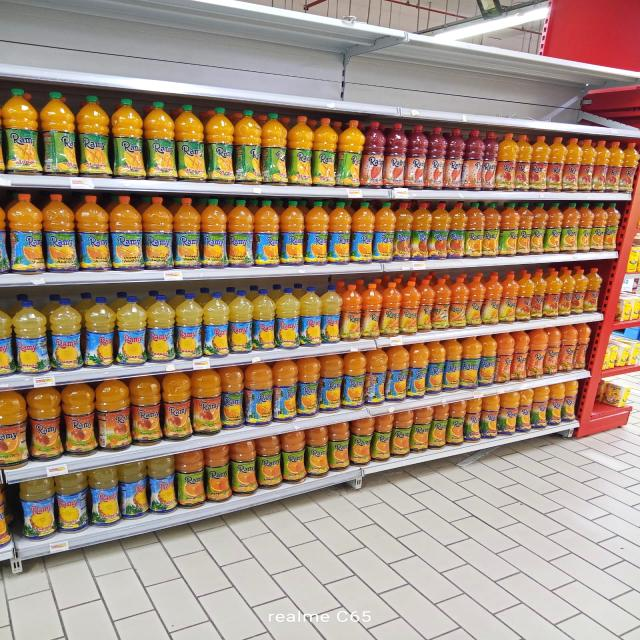PET Ramy Ananas 1 L: (7, 299, 48, 373), (81, 294, 115, 368), (199, 297, 231, 358), (52, 301, 79, 370), (272, 288, 302, 350), (294, 286, 322, 348), (228, 294, 258, 348), (316, 283, 342, 339), (151, 294, 175, 354), (175, 298, 201, 352), (126, 296, 146, 366), (254, 290, 272, 355)
PET Ramy Grenadin 1 L: (525, 157, 549, 191), (512, 158, 534, 192), (618, 165, 640, 198), (540, 284, 561, 315), (500, 153, 517, 189), (530, 292, 552, 316), (580, 160, 596, 192), (562, 159, 579, 187), (522, 291, 537, 321), (548, 159, 563, 189), (594, 162, 608, 189), (569, 288, 583, 314), (586, 288, 601, 312), (558, 290, 572, 315), (607, 164, 619, 193)
PET Ramy Grenadin 2 L: (161, 368, 191, 440), (127, 378, 160, 443), (96, 388, 130, 450), (192, 368, 221, 432), (31, 395, 60, 457), (64, 392, 94, 451), (3, 399, 28, 461)
PET Ramy Orange 1 L: (585, 208, 609, 250), (580, 202, 599, 254), (482, 206, 501, 256), (500, 208, 520, 252), (551, 205, 566, 256), (468, 206, 483, 255), (562, 204, 577, 252), (517, 204, 532, 248), (604, 206, 618, 249), (538, 203, 550, 252)
PET Ramy Orange 2 L: (199, 444, 230, 499), (181, 451, 209, 507), (276, 433, 306, 479), (302, 429, 330, 476), (258, 438, 284, 488), (236, 438, 256, 499), (374, 417, 396, 458), (329, 424, 351, 464), (413, 405, 432, 451), (394, 412, 414, 453), (432, 405, 450, 449), (354, 421, 372, 462), (451, 407, 465, 441)
PET Ramy orange abricot 125L: (2, 202, 48, 272), (136, 196, 176, 264), (41, 197, 77, 270), (75, 198, 109, 264), (105, 198, 136, 262), (276, 204, 308, 264), (300, 201, 329, 267), (201, 199, 229, 267), (229, 196, 255, 265), (171, 200, 200, 259), (253, 201, 280, 260), (349, 204, 373, 259), (376, 202, 396, 256), (331, 199, 348, 261)
Pack Ramy Fraise 1L: (383, 124, 408, 186), (362, 121, 384, 187), (406, 122, 426, 191), (428, 126, 446, 185), (481, 132, 502, 182), (449, 128, 463, 192), (468, 132, 482, 190)
Pack Ramy Mangue 1 L: (0, 86, 46, 173), (34, 94, 84, 172), (80, 106, 114, 176), (139, 132, 180, 180), (112, 130, 144, 178), (284, 143, 314, 191), (234, 142, 264, 184), (203, 144, 234, 178), (260, 146, 292, 177), (311, 152, 339, 186), (180, 139, 204, 178), (339, 148, 362, 186)
Pack Ramy Peche 1 L: (408, 202, 429, 252), (433, 205, 448, 256), (449, 202, 463, 255), (397, 206, 408, 255)
pet ramy ananas 2L: (110, 458, 153, 518), (24, 482, 58, 535), (150, 452, 178, 514), (54, 479, 85, 532), (84, 470, 115, 520)
pet ramy orange abricot 2L: (247, 367, 272, 425), (343, 349, 368, 405), (224, 371, 248, 429), (363, 348, 387, 404), (474, 334, 498, 387), (272, 363, 294, 419), (319, 356, 342, 407), (514, 380, 536, 433), (460, 333, 480, 391), (407, 344, 428, 398), (300, 359, 319, 417), (426, 340, 446, 392), (389, 348, 408, 399), (461, 397, 482, 442), (561, 382, 582, 426), (479, 395, 500, 438), (445, 338, 461, 392), (498, 393, 516, 436), (548, 385, 564, 428), (536, 388, 551, 432)
pet ramy orange citron carotte 125L: (378, 289, 401, 336), (494, 332, 514, 382), (342, 288, 360, 342), (530, 330, 550, 374), (568, 323, 590, 362), (403, 284, 419, 336), (362, 287, 380, 333), (416, 282, 434, 328), (513, 331, 531, 375), (431, 282, 448, 326), (558, 322, 574, 368), (547, 328, 563, 372), (479, 294, 500, 327), (454, 280, 466, 327), (468, 282, 481, 325), (502, 293, 520, 324)
